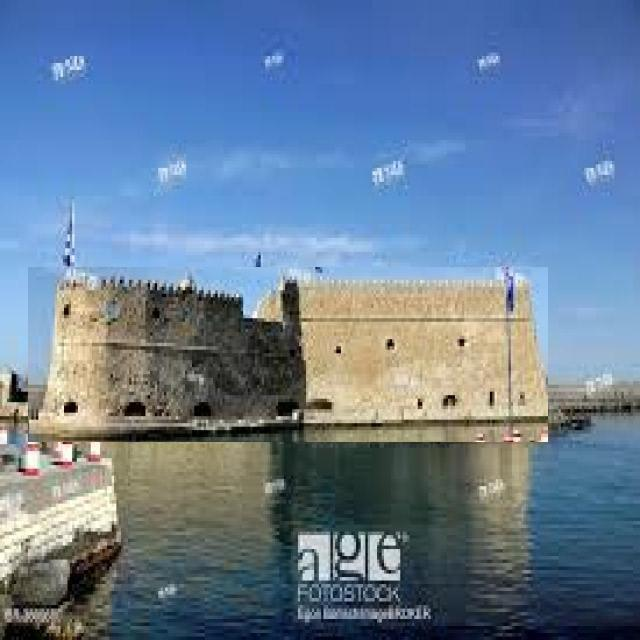Kules: (29, 268, 549, 443)
